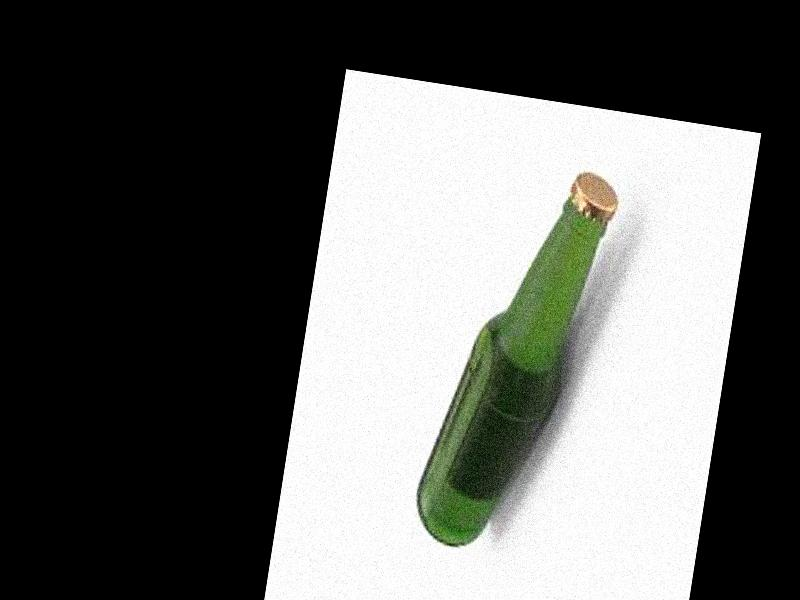Beer: (409, 151, 622, 563)
